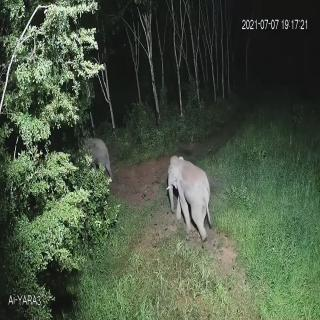Elephant: (162, 146, 224, 255), (74, 124, 115, 184)
